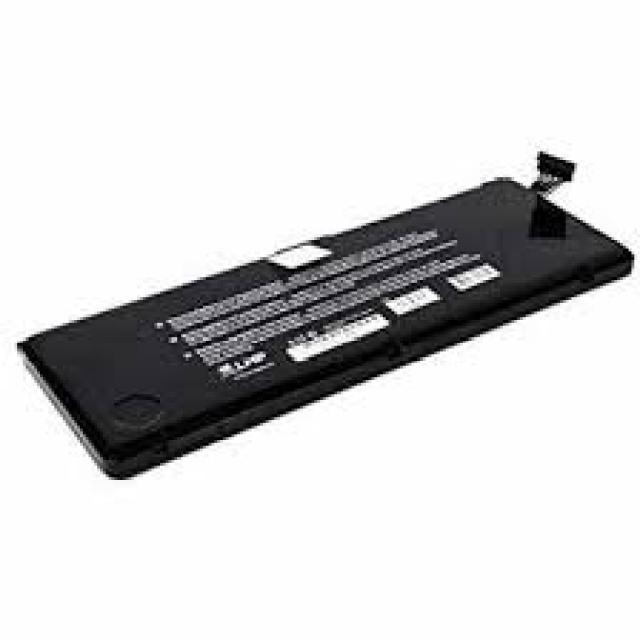battery: (12, 148, 636, 484)
